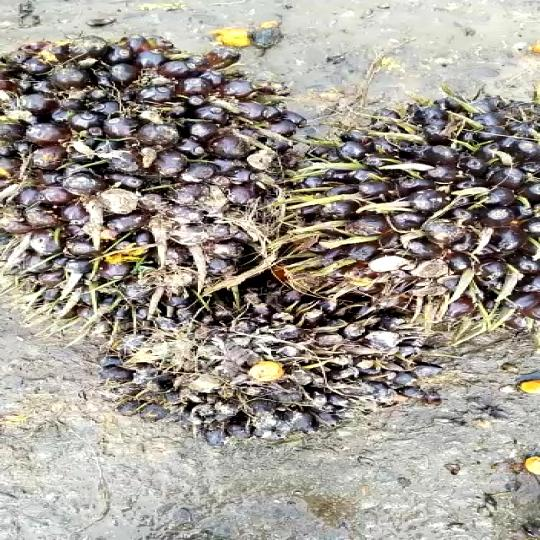mentah: (0, 30, 540, 440)
